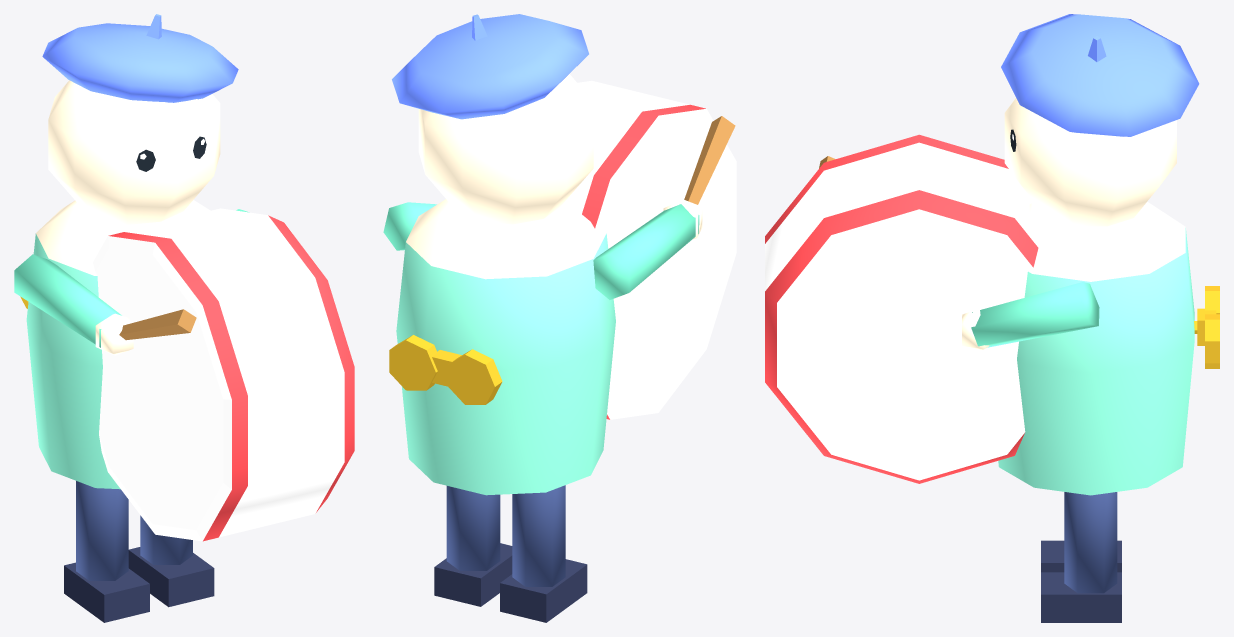
File: band-drum.glb
3 renders of one model, left to right at view 1: azimuth 30°, elevation 25°; view 2: azimuth 150°, elevation 25°; view 3: azimuth 270°, elevation 25°, orthographic.
Parts seen in each view (by area): view 1: band-drum; view 2: band-drum; view 3: band-drum.
Boxes of the visible parts, x1,y1,x2,y2 form: band-drum: (14,14,354,622); band-drum: (383,14,736,622); band-drum: (765,14,1219,622).
Size of the model in its own units: 0.8998 by 2.02 by 1.46.
